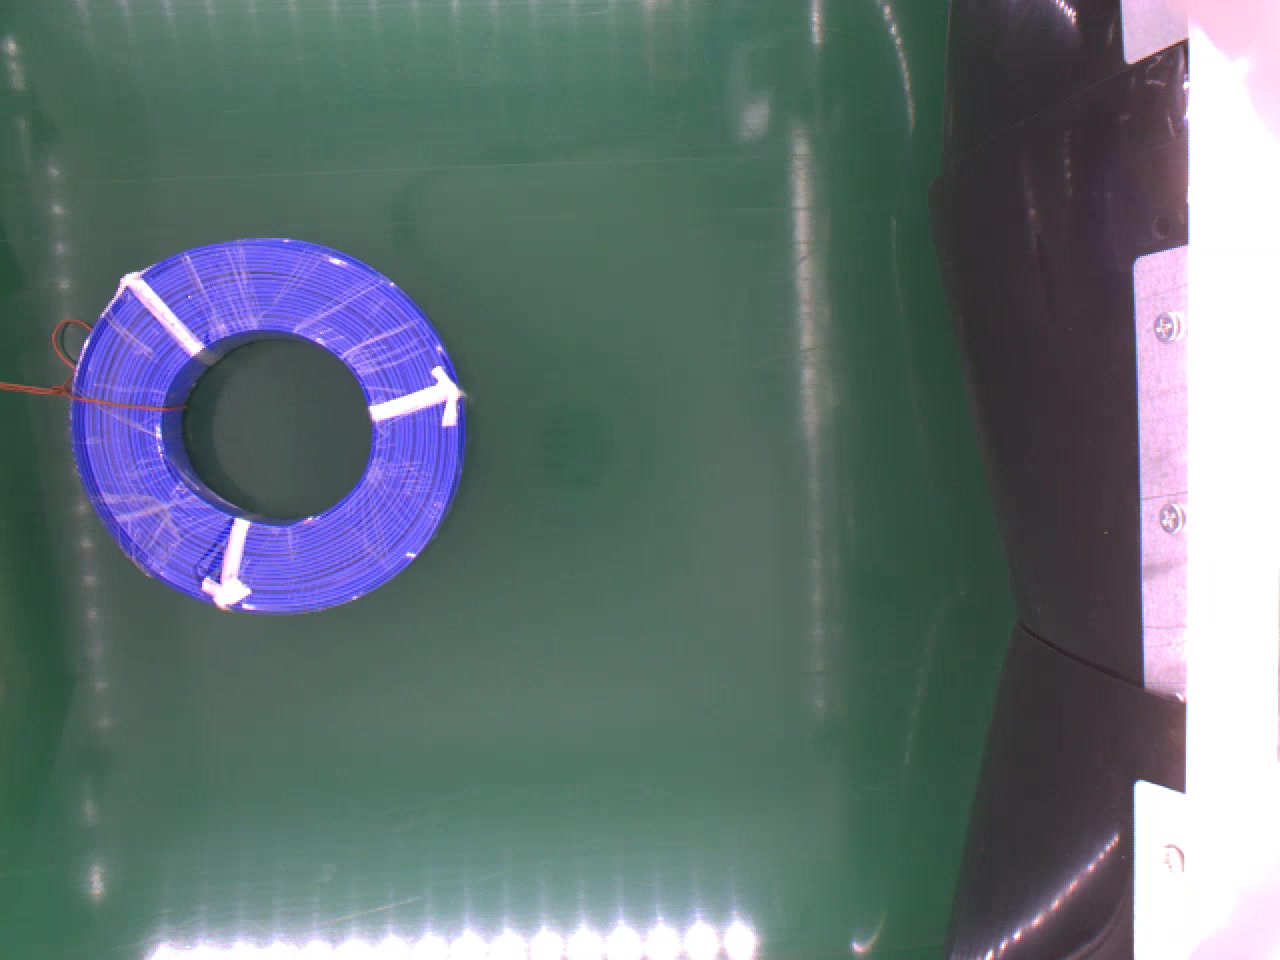blue: (71, 231, 464, 615)
